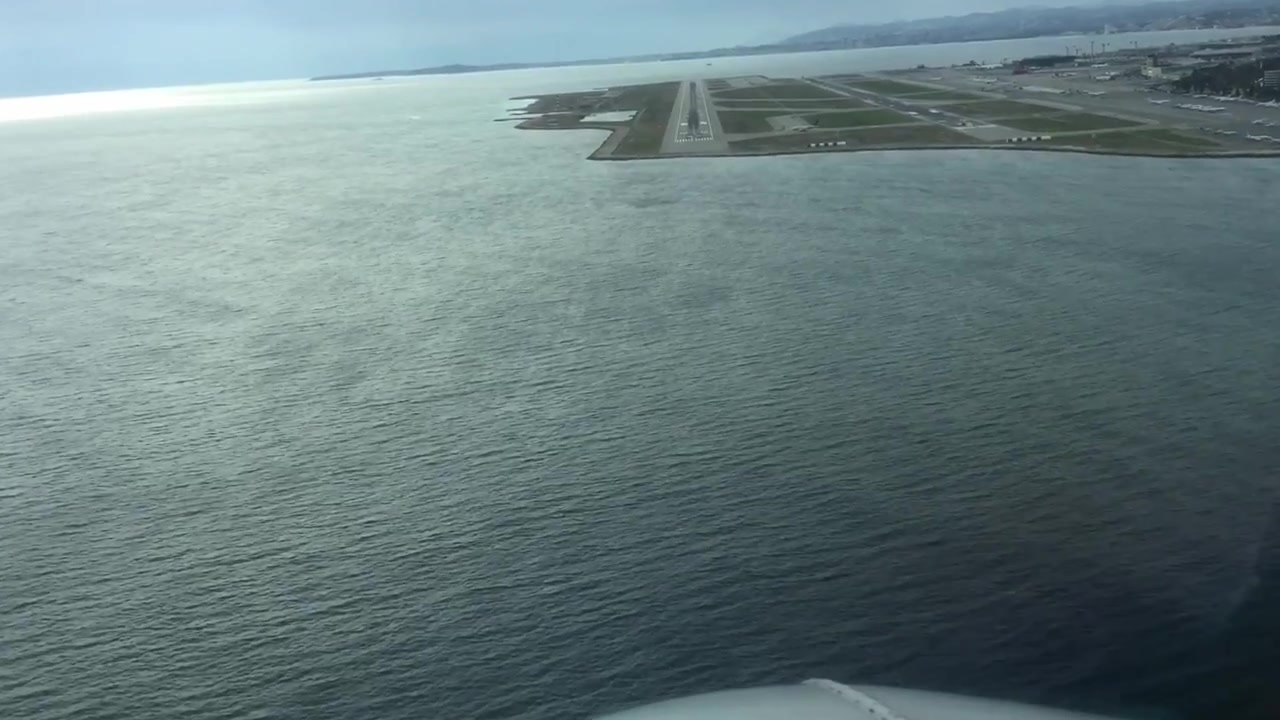entrance: (676, 136, 712, 143)
runway: (804, 77, 998, 129), (661, 80, 728, 154)
